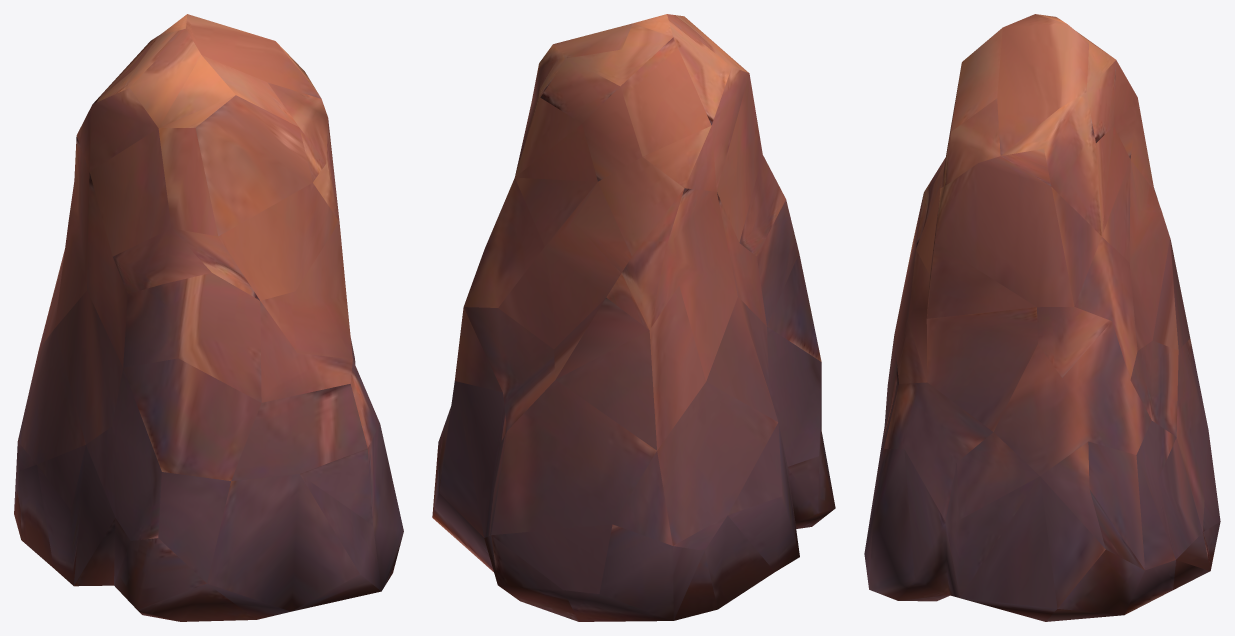
Rendered from s-pierre-feu-semis.glb.
3 views of the same model, side by side, from view 1: azimuth 30°, elevation 25°; view 2: azimuth 150°, elevation 25°; view 3: azimuth 270°, elevation 25° (orthographic).
Parts seen in each view (by area): view 1: s-pierre-eau-semis; view 2: s-pierre-eau-semis; view 3: s-pierre-eau-semis.
Boxes of the visible parts, <box> form: s-pierre-eau-semis: <box>14,14,403,621</box>; s-pierre-eau-semis: <box>432,14,835,621</box>; s-pierre-eau-semis: <box>864,14,1220,621</box>.
Size of the model in its own units: 1.19 by 1.98 by 1.17.
Materials: 1 (1 with a texture image).
